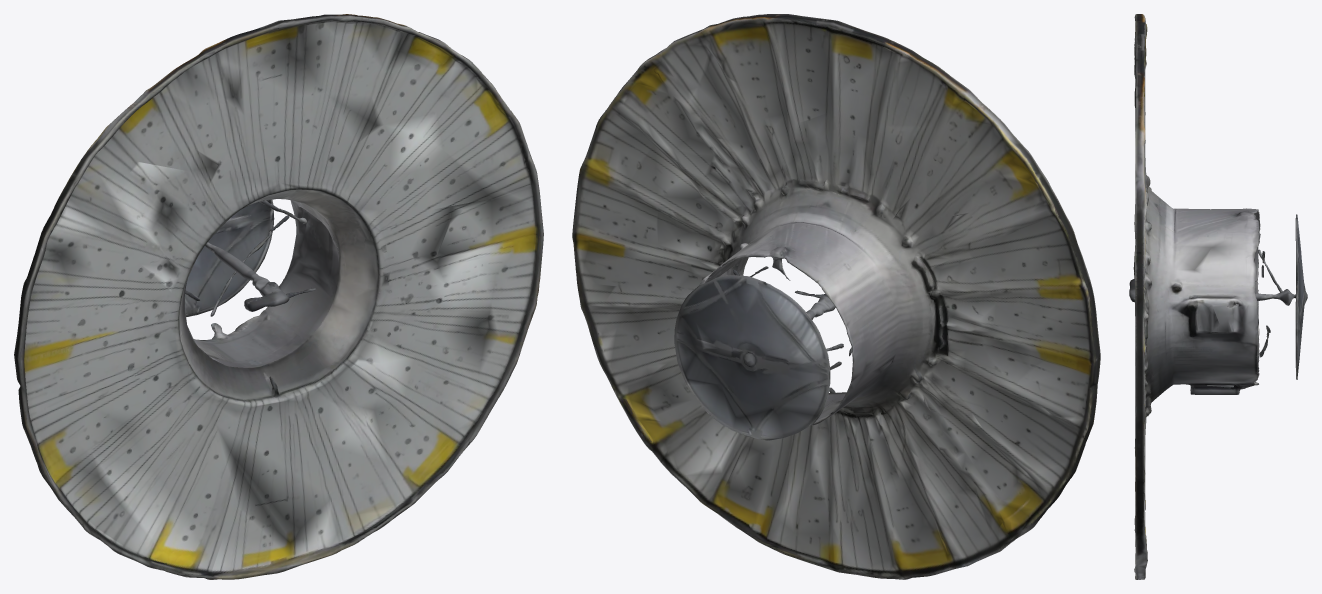
Rendered from gaia.glb.
3 renders of one model, left to right at view 1: azimuth 30°, elevation 25°; view 2: azimuth 150°, elevation 25°; view 3: azimuth 270°, elevation 25°, orthographic. The views are drawn at different scales.
Bounding box in the file's own units: 2.01 × 2 × 0.6314.
Materials: 1 (1 with a texture image).
